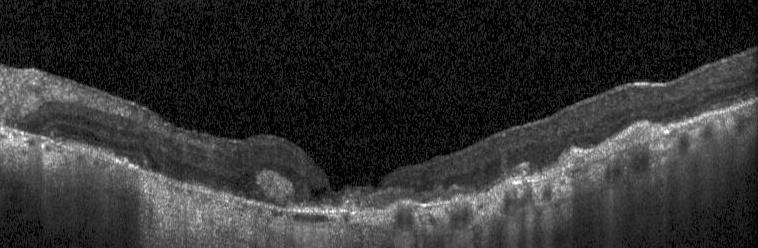intraretinal_cyst: (310, 187, 326, 200)
lamellar_macular_rupture: (325, 171, 383, 192)
subretinal_hyperreflective_material: (552, 120, 692, 174), (337, 186, 425, 211), (255, 169, 299, 206)
